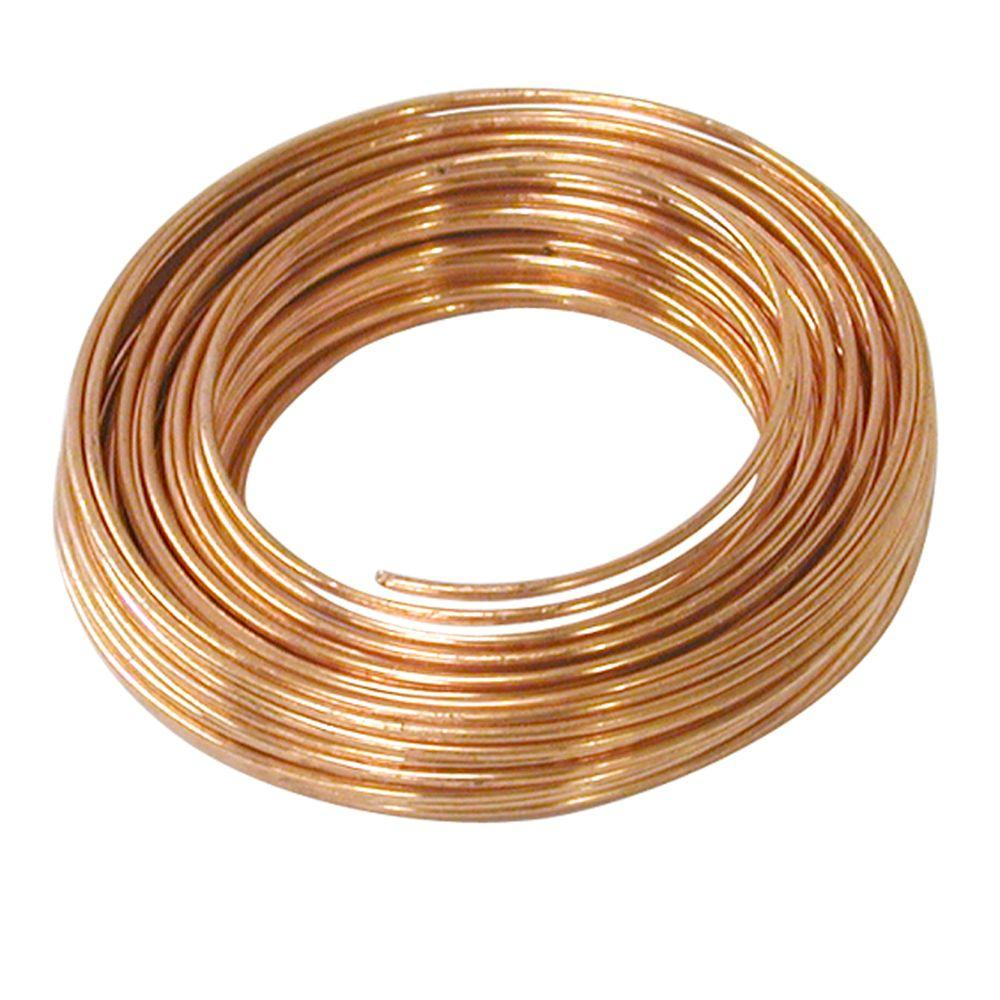Nonrec_Tangler: (85, 44, 905, 834)
